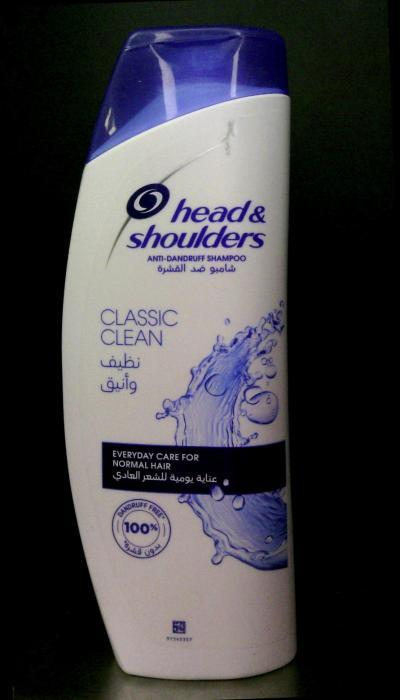tear_unacc: (206, 112, 252, 158)
